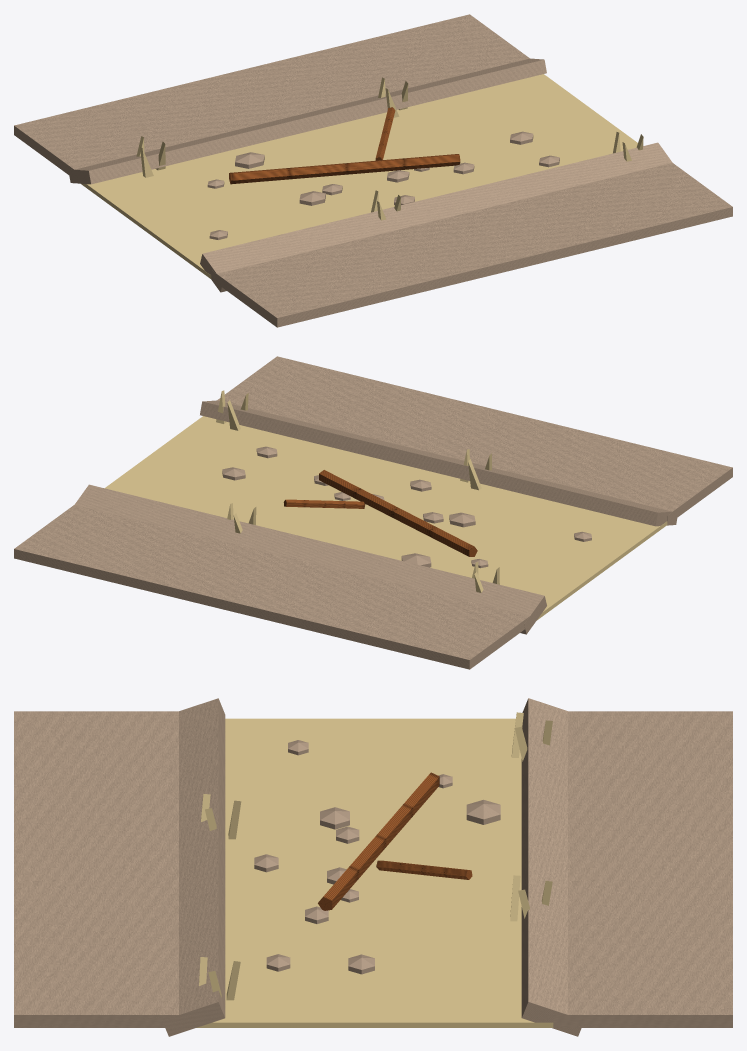
The model's file is safari-camp-and-bush-lodge-dry-riverbed-module-f4477cfa__37707.glb.
The picture shows the model from 3 angles, top to bottom: view 1: azimuth 30°, elevation 25°; view 2: azimuth 150°, elevation 25°; view 3: azimuth 270°, elevation 25°; orthographic projection. The views are drawn at different scales.
Parts seen in each view (by area): view 1: dry-riverbed-module-earth, dry-riverbed-module-thatch, dry-riverbed-module-timber; view 2: dry-riverbed-module-earth, dry-riverbed-module-thatch, dry-riverbed-module-timber; view 3: dry-riverbed-module-earth, dry-riverbed-module-thatch, dry-riverbed-module-timber.
Boxes of the visible parts, x1,y1,x2,y2 form: dry-riverbed-module-earth: (14, 14, 732, 327); dry-riverbed-module-thatch: (81, 74, 643, 278); dry-riverbed-module-timber: (229, 107, 460, 184); dry-riverbed-module-earth: (14, 356, 732, 669); dry-riverbed-module-thatch: (105, 390, 667, 620); dry-riverbed-module-timber: (283, 470, 477, 556); dry-riverbed-module-earth: (14, 698, 732, 1036); dry-riverbed-module-thatch: (196, 712, 553, 1027); dry-riverbed-module-timber: (318, 772, 472, 910).
Size of the model in its own units: 6 by 0.4971 by 6.
Materials: 3 (2 with a texture image).
